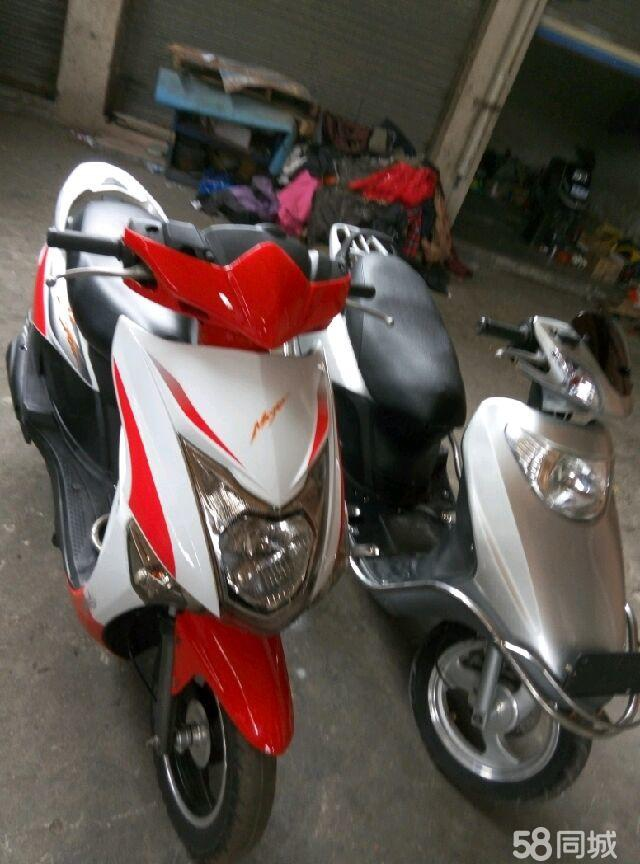non-vehicle: (1, 161, 346, 855), (308, 198, 636, 808)
